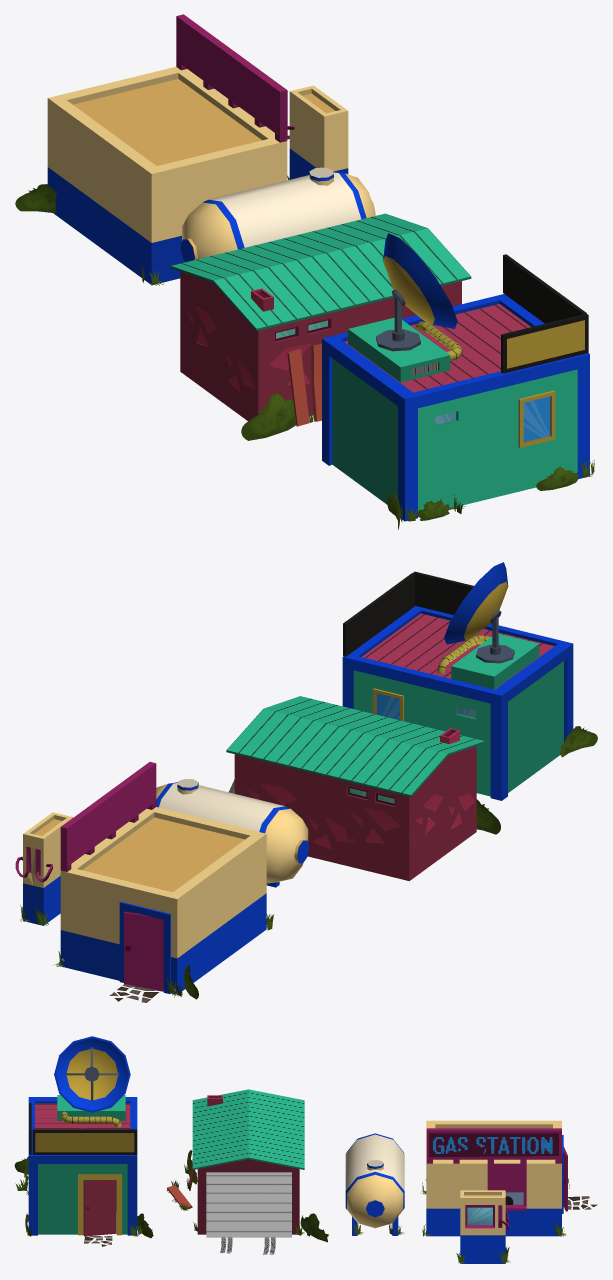
The model's file is cartoon buildings.fbx.
The picture shows the model from 3 angles, top to bottom: view 1: azimuth 30°, elevation 25°; view 2: azimuth 150°, elevation 25°; view 3: azimuth 270°, elevation 25°; orthographic projection. The views are drawn at different scales.
Visible parts, largest first — view 1: build_1, build_3, build_2, tanker; view 2: build_3, build_1, build_2, tanker; view 3: build_1, build_3, build_2, tanker.
Part boxes in pixels (box(x1,y1,x2,y2)): build_1: box(322, 233, 594, 529); build_3: box(15, 14, 348, 285); build_2: box(170, 213, 471, 440); tanker: box(180, 167, 375, 262); build_3: box(15, 762, 273, 1002); build_1: box(342, 562, 597, 800); build_2: box(226, 696, 500, 881); tanker: box(156, 778, 309, 887); build_1: box(14, 1036, 153, 1246); build_3: box(420, 1120, 597, 1263); build_2: box(167, 1089, 328, 1254); tanker: box(345, 1133, 404, 1235).
Size of the model in its own units: 675 by 474 by 1609.
